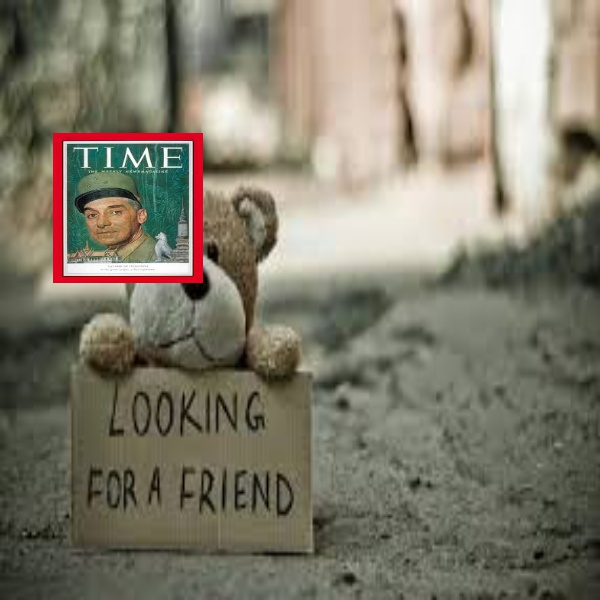time_cover: (46, 118, 208, 292)
